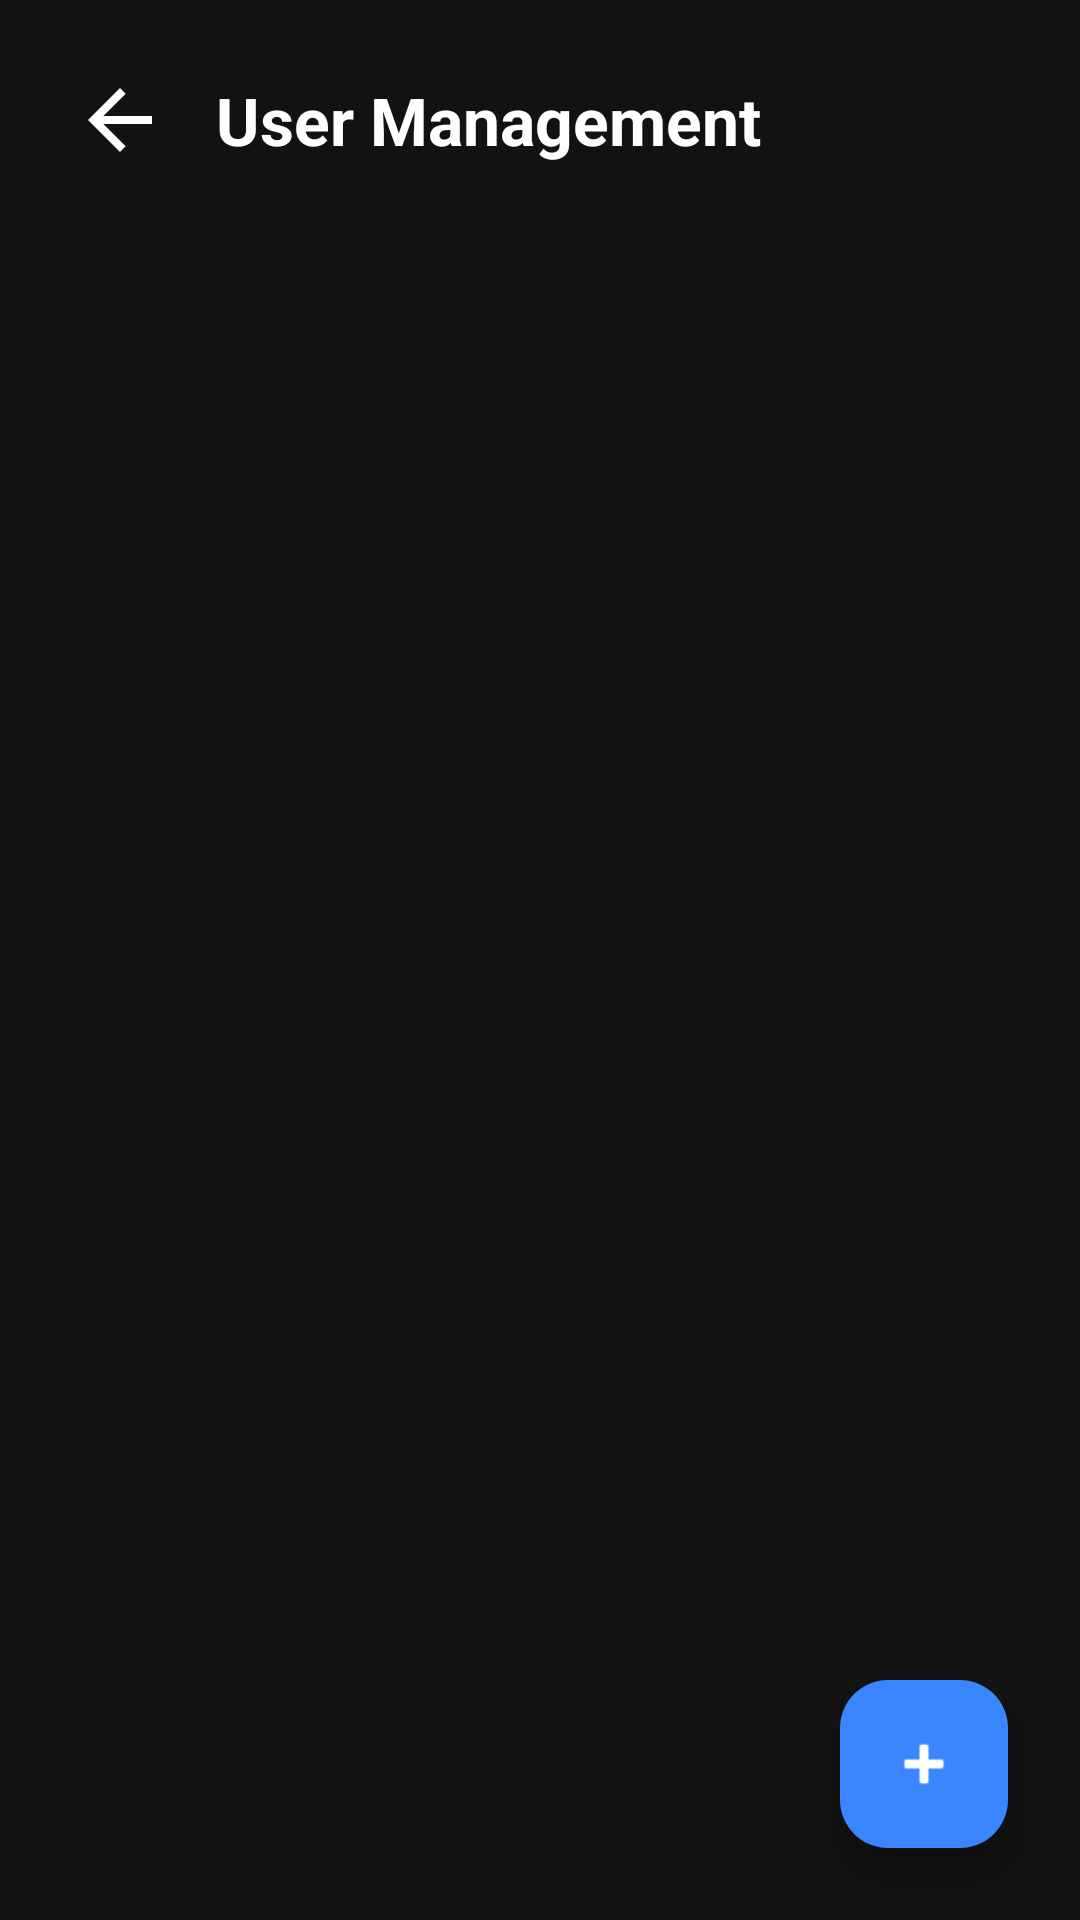

Icon click points for this 1080×1920 phone screenshot, format (x=x, y=y):
add: (x=924, y=1764)
Back: (x=120, y=120)
